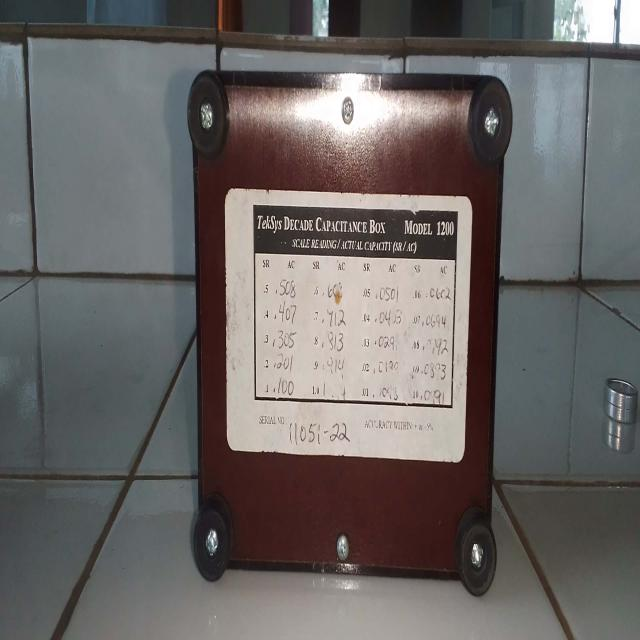Decade Capacitance Box: (177, 73, 514, 591)
